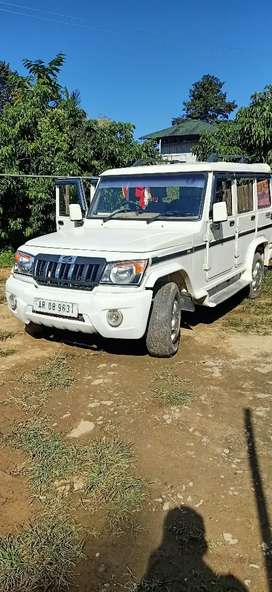AR08983: (32, 299, 73, 316)
